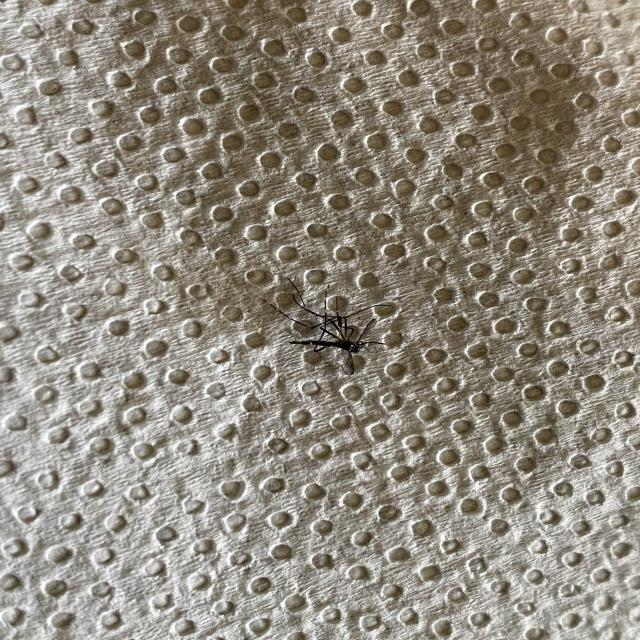albopictus: (256, 274, 396, 374)
